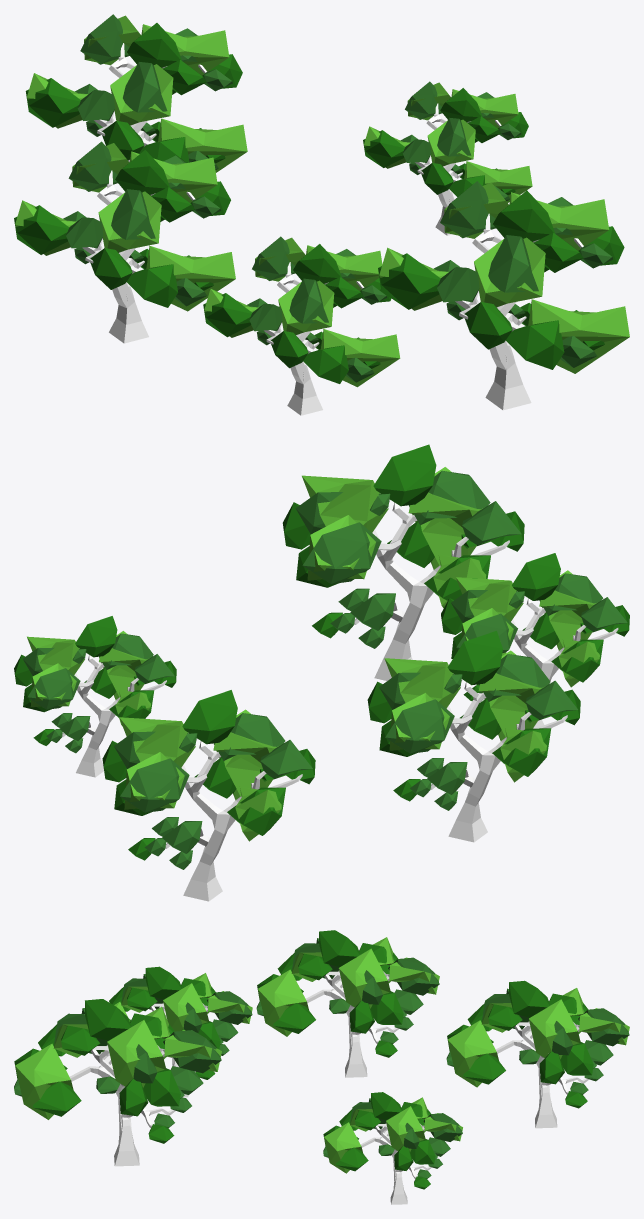
File: my_first_tree_group.glb
The picture shows the model from 3 angles, top to bottom: view 1: azimuth 30°, elevation 25°; view 2: azimuth 150°, elevation 25°; view 3: azimuth 270°, elevation 25°; orthographic projection. The views are drawn at different scales.
Visible parts, largest first — view 1: tree2leaves, tree1leaves, tree4leaves, tree3leaves, tree5leaves, tree2trunk, tree1trunk, tree3trunk, tree5trunk, tree4trunk; view 2: tree2leaves, tree4leaves, tree1leaves, tree3leaves, tree5leaves, tree2trunk, tree1trunk, tree4trunk, tree5trunk, tree3trunk; view 3: tree2leaves, tree4leaves, tree1leaves, tree5leaves, tree3leaves, tree2trunk, tree1trunk, tree4trunk, tree5trunk.
Boxes of the visible parts, x1,y1,x2,y2 form: tree2leaves: [378, 181, 629, 373]; tree1leaves: [14, 141, 235, 311]; tree4leaves: [25, 14, 247, 172]; tree3leaves: [203, 236, 400, 387]; tree5leaves: [363, 81, 532, 202]; tree2trunk: [455, 213, 583, 410]; tree1trunk: [82, 170, 195, 343]; tree3trunk: [264, 262, 364, 415]; tree5trunk: [415, 103, 501, 235]; tree4trunk: [94, 43, 206, 162]; tree2leaves: [282, 444, 524, 648]; tree4leaves: [102, 690, 315, 869]; tree1leaves: [367, 631, 580, 810]; tree3leaves: [441, 553, 629, 703]; tree5leaves: [14, 616, 176, 753]; tree2trunk: [354, 499, 509, 680]; tree1trunk: [430, 679, 567, 842]; tree4trunk: [165, 738, 302, 901]; tree5trunk: [62, 653, 166, 777]; tree3trunk: [511, 596, 618, 728]; tree2leaves: [14, 999, 221, 1143]; tree4leaves: [446, 980, 629, 1108]; tree1leaves: [256, 930, 439, 1057]; tree5leaves: [323, 1092, 462, 1189]; tree3leaves: [102, 966, 252, 1079]; tree2trunk: [69, 1045, 175, 1166]; tree1trunk: [306, 970, 398, 1077]; tree4trunk: [495, 1021, 588, 1128]; tree5trunk: [360, 1123, 431, 1204].
Bounding box in the file's own units: 23.21 × 9.02 × 31.67.
